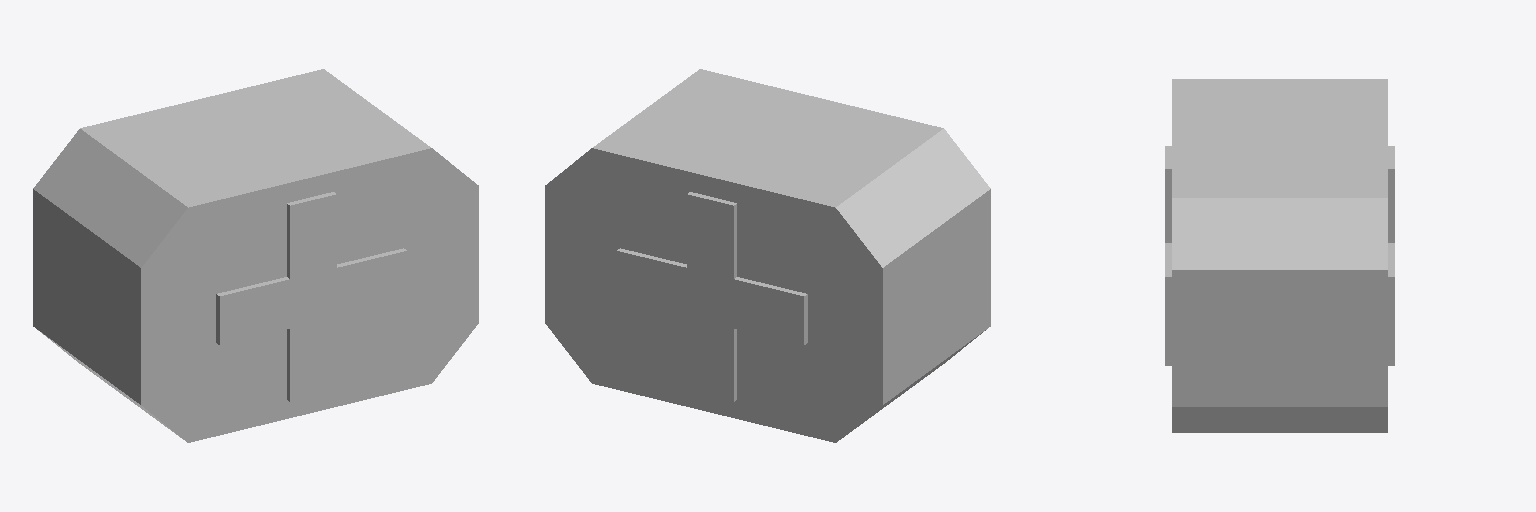
File: regeneration.obj
The picture shows the model from 3 angles: view 1: azimuth 30°, elevation 25°; view 2: azimuth 150°, elevation 25°; view 3: azimuth 270°, elevation 25°; orthographic projection.
Visible parts, largest first — view 1: Cube.004; view 2: Cube.004; view 3: Cube.004.
Part boxes in pixels (x1,y1,x2,y2): Cube.004: (33,69,478,442); Cube.004: (545,69,990,442); Cube.004: (1165,79,1394,432).
Bounding box in the file's own units: 0.9 × 0.6 × 0.5312.